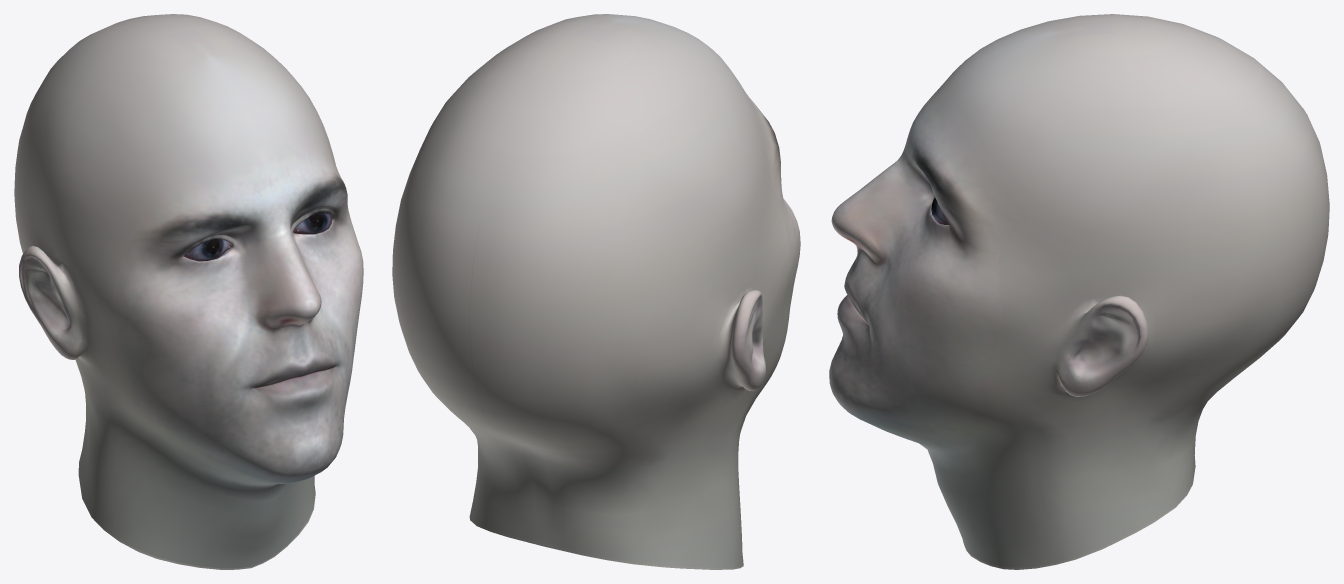
3 views of the same model, side by side, from view 1: azimuth 30°, elevation 25°; view 2: azimuth 150°, elevation 25°; view 3: azimuth 270°, elevation 25° (orthographic). The views are drawn at different scales.
Visible parts, largest first — view 1: skin_hi, eyeR_hi, eyeL_hi; view 2: skin_hi; view 3: skin_hi.
Part boxes in pixels (x1,y1,x2,y2): skin_hi: (14, 14, 363, 569); eyeR_hi: (184, 239, 230, 261); eyeL_hi: (293, 212, 332, 234); skin_hi: (392, 14, 800, 569); skin_hi: (829, 14, 1329, 569).
Bounding box in the file's own units: 179 × 277 × 242.
